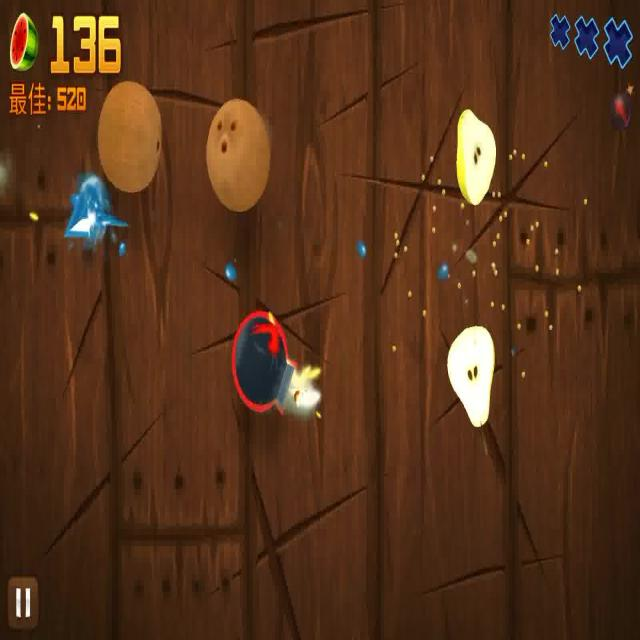bomb: (228, 305, 320, 420)
fruit: (205, 96, 271, 213), (96, 78, 160, 194), (443, 325, 493, 427), (455, 102, 496, 207)
